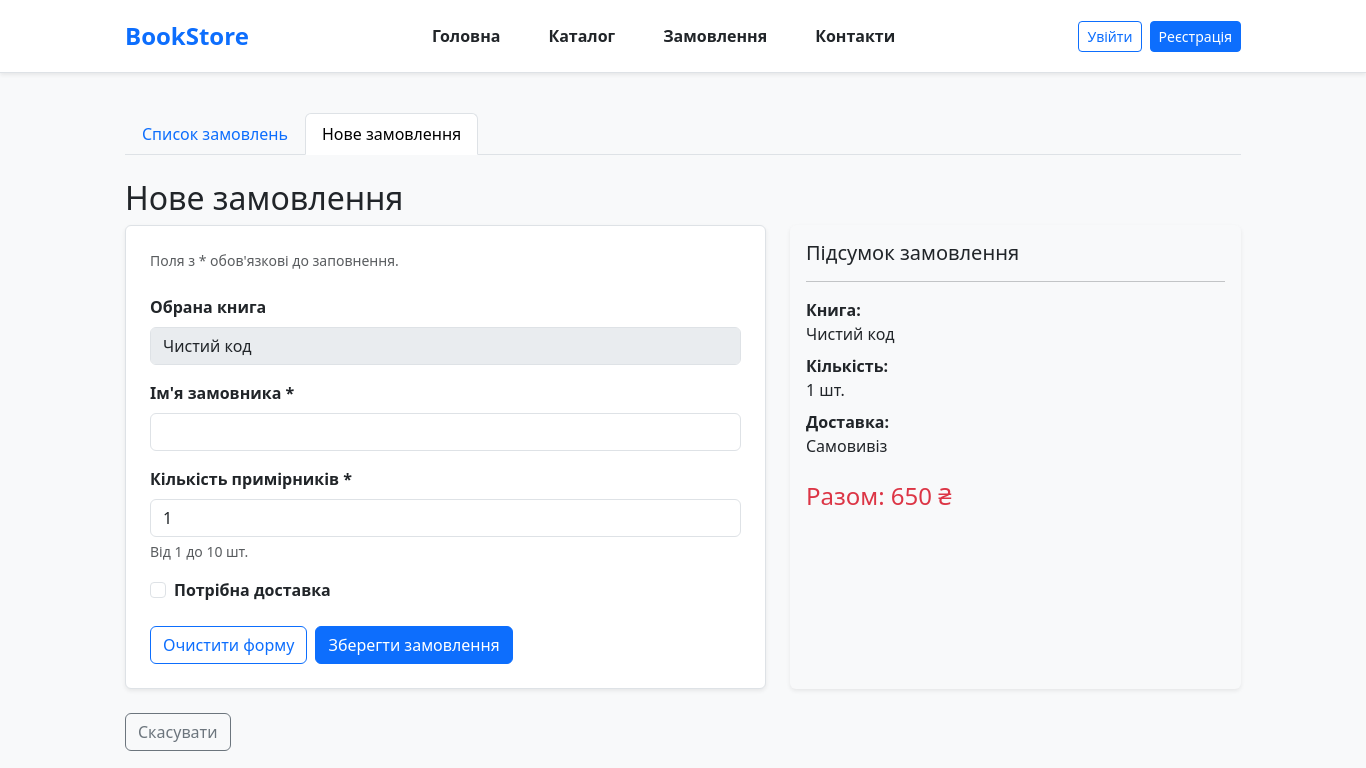
it: Інтеграційні та компонентні тести BookStore › створює замовлення та переходить на сторінку перегляду за підтвердженим ідентифікатором
This screenshot has width=1366, height=768.
Type "Ольга Кобилянська" into the field labelled "Ім'я замовника *".
click(446, 432); type("Ольга Кобилянська")  # box top-left (150, 413), bottom-right (741, 451)
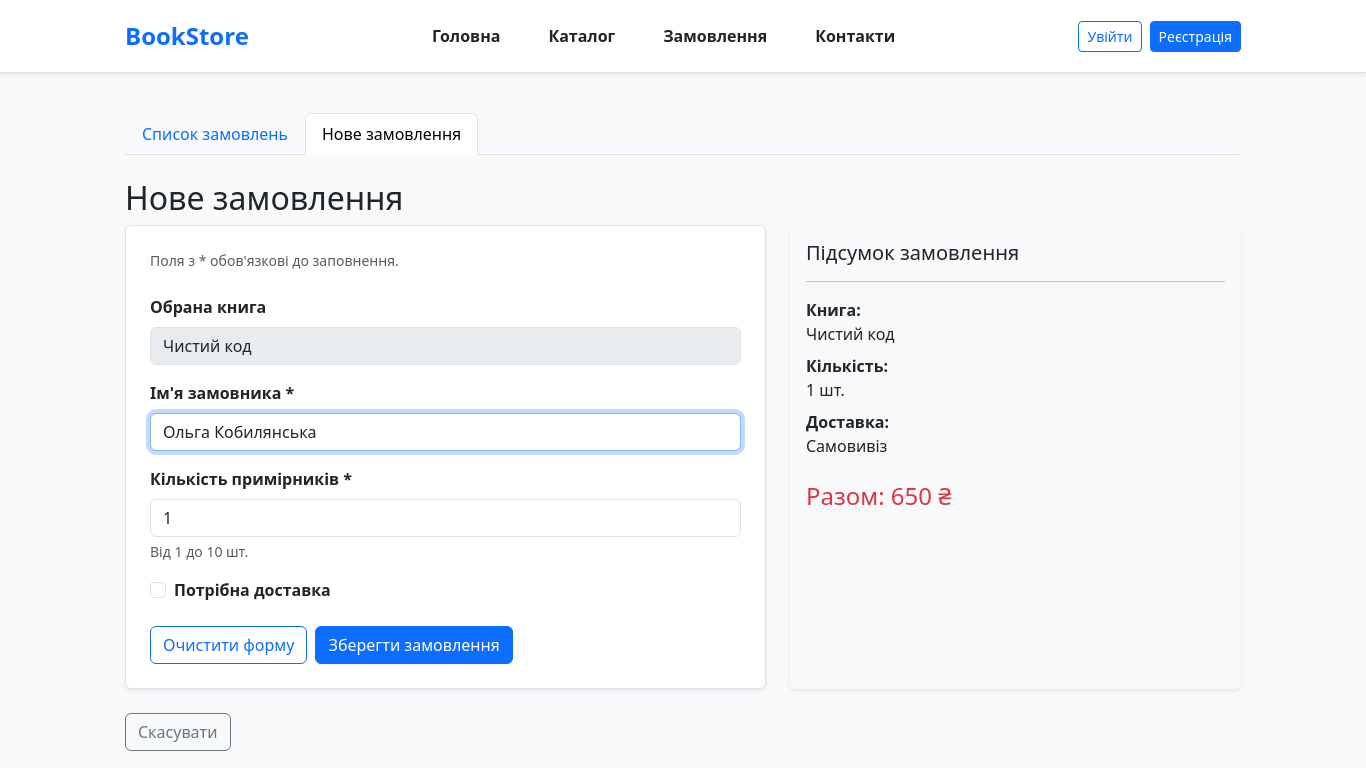
Click the button "Зберегти замовлення".
click(414, 645)  # box top-left (316, 626), bottom-right (513, 664)
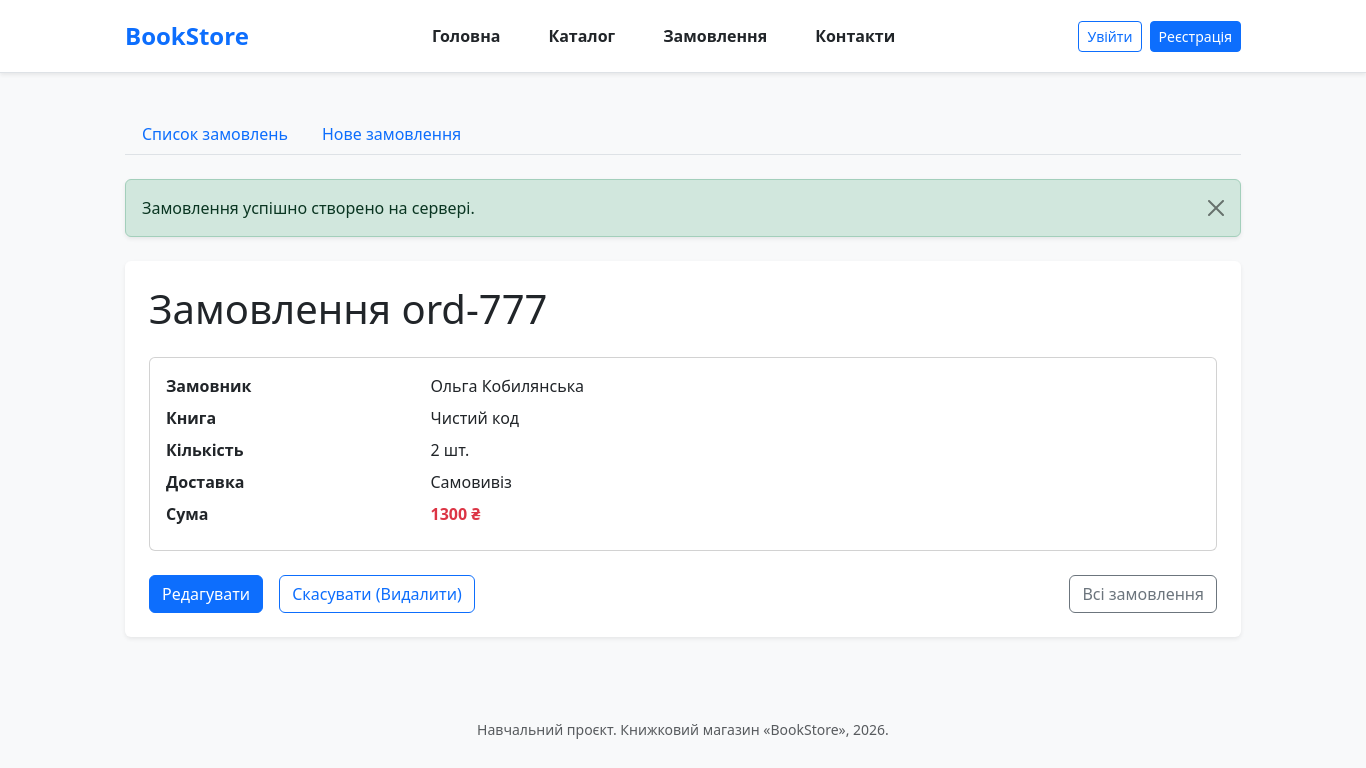
Now the heading "Замовлення ord-777" is shown, box top-left (149, 281), bottom-right (548, 336)
Now the text "Ольга Кобилянська" is shown, box top-left (430, 375), bottom-right (584, 397)
